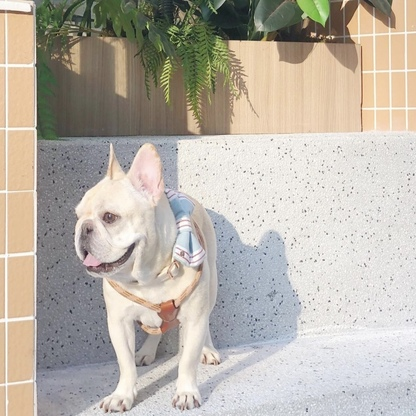bulldog: (70, 140, 221, 412)
